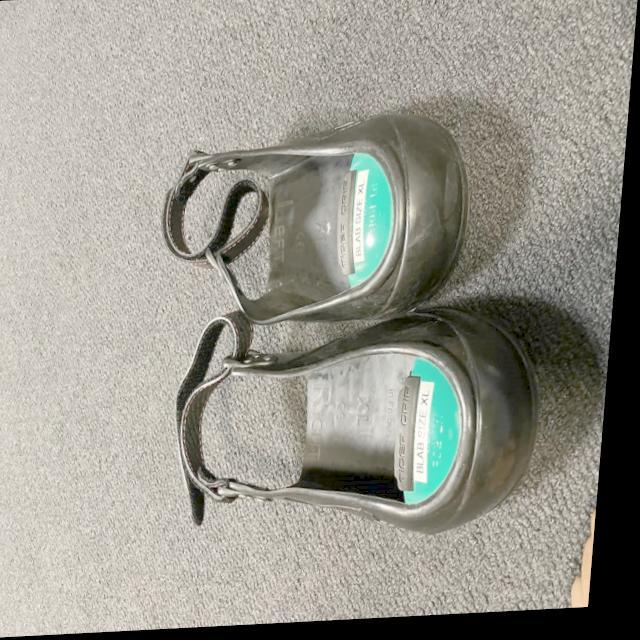shoes: (178, 300, 544, 540), (163, 102, 468, 319)
